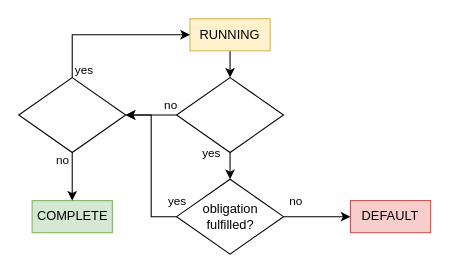
Some shapes in this 449 by 273 pixel diagram are drawn without their labels. Here are the shapes that lost their labels. From the top down, the centre of each, then its label:
At (72,114): "future obligations?".
At (229,114): "obligation present?".
